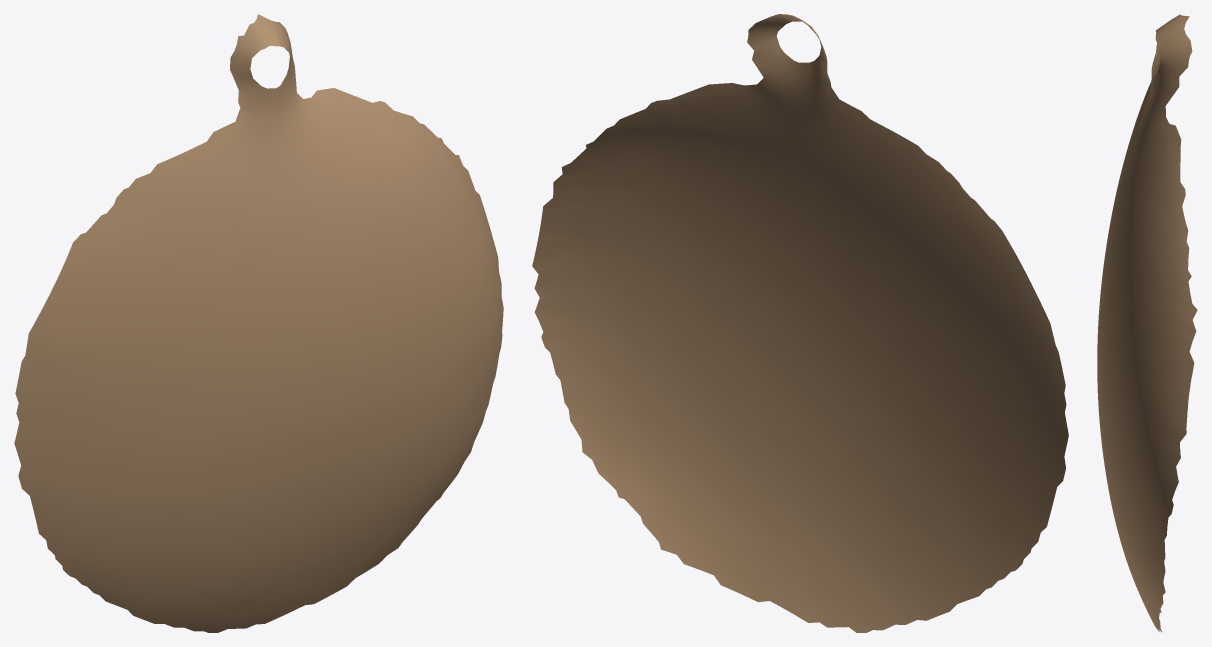
The model's file is real_sphere.glb.
3 views of the same model, side by side, from view 1: azimuth 30°, elevation 25°; view 2: azimuth 150°, elevation 25°; view 3: azimuth 270°, elevation 25° (orthographic). The views are drawn at different scales.
Parts seen in each view (by area): view 1: result-20251218_142059-sphere; view 2: result-20251218_142059-sphere; view 3: result-20251218_142059-sphere.
Part boxes in pixels (<box>): result-20251218_142059-sphere: <box>14,14,503,632</box>; result-20251218_142059-sphere: <box>532,14,1068,632</box>; result-20251218_142059-sphere: <box>1097,14,1197,632</box>.
Size of the model in its own units: 0.9061 by 1.03 by 0.1573.
